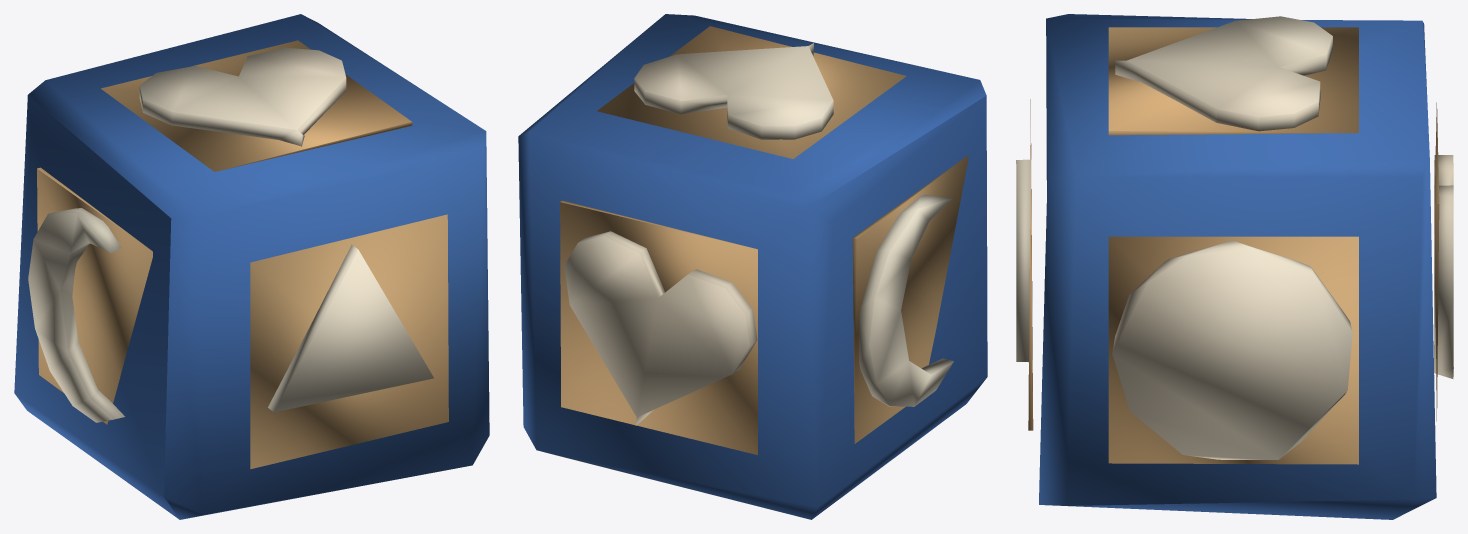
The model's file is den_block_blue_lod2.glb.
The picture shows the model from 3 angles, left to right: view 1: azimuth 30°, elevation 25°; view 2: azimuth 150°, elevation 25°; view 3: azimuth 270°, elevation 25°; orthographic projection. The views are drawn at different scales.
Visible parts, largest first — view 1: den_block_blue.001; view 2: den_block_blue.001; view 3: den_block_blue.001.
Part boxes in pixels (x1,y1,x2,y2): den_block_blue.001: (14,14,489,519); den_block_blue.001: (518,14,987,519); den_block_blue.001: (1016,14,1453,519).
Size of the model in its own units: 4.92 by 4.8 by 4.9.
